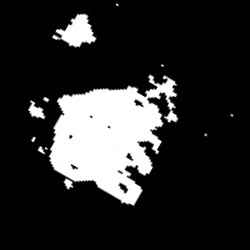pinhole: (39, 147, 45, 154), (44, 95, 48, 102), (230, 113, 235, 117), (32, 136, 35, 141), (160, 63, 163, 67), (205, 132, 207, 137), (115, 3, 118, 6)
spot: (51, 74, 178, 204), (51, 14, 96, 48), (29, 101, 44, 118)
